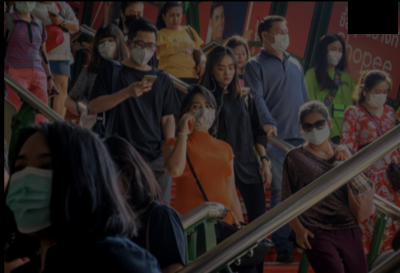with_mask: (6, 150, 54, 234), (188, 100, 217, 132), (302, 118, 331, 146), (130, 38, 156, 68), (269, 26, 291, 53), (367, 87, 390, 109), (97, 37, 118, 60), (124, 8, 145, 29), (327, 44, 345, 67), (15, 2, 37, 14)
without_mask: (214, 62, 237, 85), (165, 10, 183, 29), (234, 49, 248, 68)
